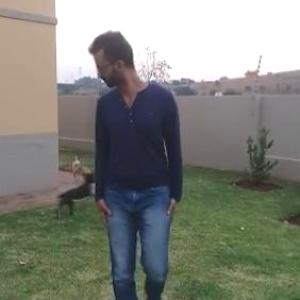follow: (87, 16, 179, 266)
